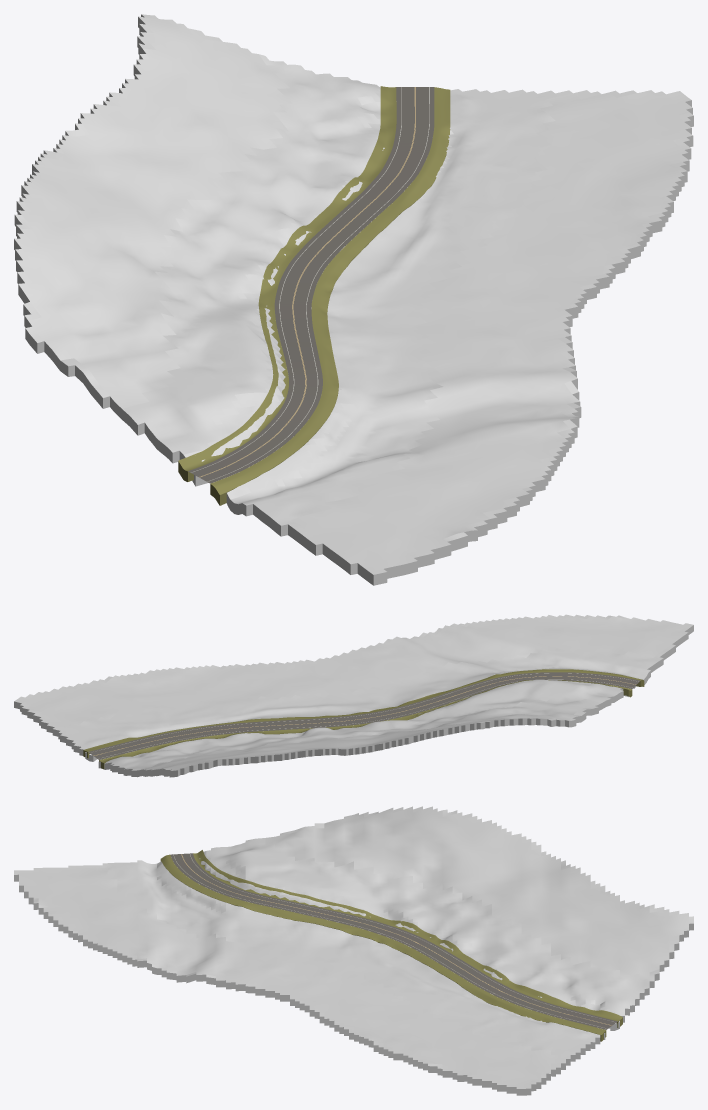
Rendered from conz_133.glb.
The picture shows the model from 3 angles, top to bottom: view 1: azimuth 30°, elevation 25°; view 2: azimuth 150°, elevation 25°; view 3: azimuth 270°, elevation 25°; orthographic projection. The views are drawn at different scales.
Visible parts, largest first — view 1: terrain133, road133, verge133L, verge133R, paint_white133; view 2: terrain133, road133, verge133L, verge133R, paint_yellow133, paint_white133; view 3: terrain133, road133, verge133L, verge133R.
Boxes of the visible parts, x1,y1,x2,y2 form: terrain133: (14,14,693,585); road133: (188,87,434,483); verge133L: (210,87,450,505); verge133R: (178,86,396,481); paint_white133: (191,87,429,481); terrain133: (14,614,693,777); road133: (88,672,640,759); verge133L: (83,669,644,758); verge133R: (99,680,632,769); paint_yellow133: (93,676,635,755); paint_white133: (101,673,638,757); terrain133: (14,806,693,1095); road133: (170,853,617,1029); verge133L: (160,854,606,1041); verge133R: (193,850,622,1027).
Bounding box in the file's own units: 230 × 32.03 × 276.
